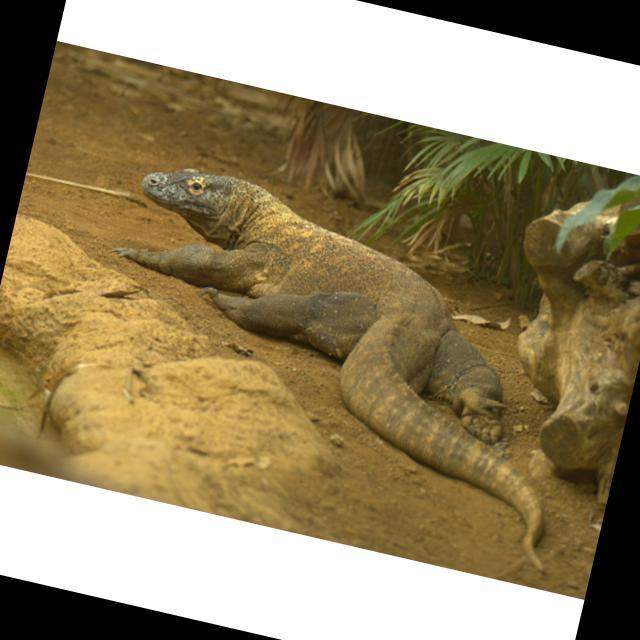KomodoDragon: (61, 149, 615, 572)
